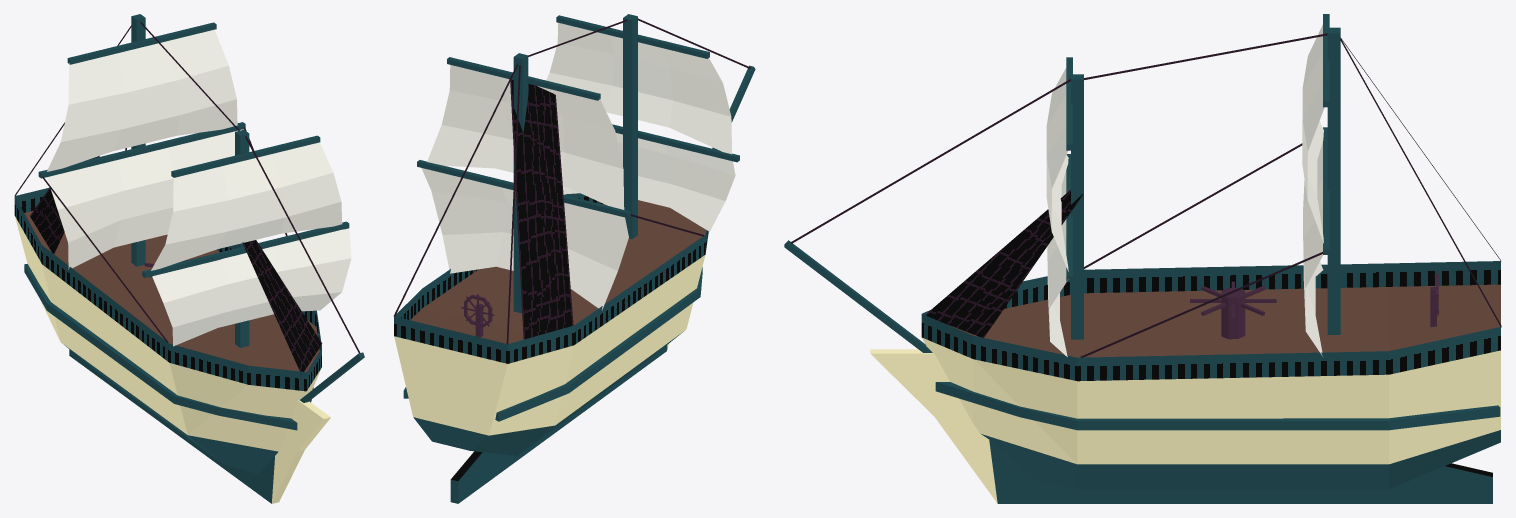
Rendered from sail_boat.glb.
The picture shows the model from 3 angles, left to right: view 1: azimuth 30°, elevation 25°; view 2: azimuth 150°, elevation 25°; view 3: azimuth 270°, elevation 25°; orthographic projection. The views are drawn at different scales.
Visible parts, largest first — view 1: sail_boat; view 2: sail_boat; view 3: sail_boat.
Boxes of the visible parts, bbox=[...] form: sail_boat: bbox=[14, 14, 364, 503]; sail_boat: bbox=[393, 14, 755, 503]; sail_boat: bbox=[784, 14, 1501, 503].
Bounding box in the file's own units: 5.59 × 10.02 × 13.81.
Materials: 1 (1 with a texture image).
